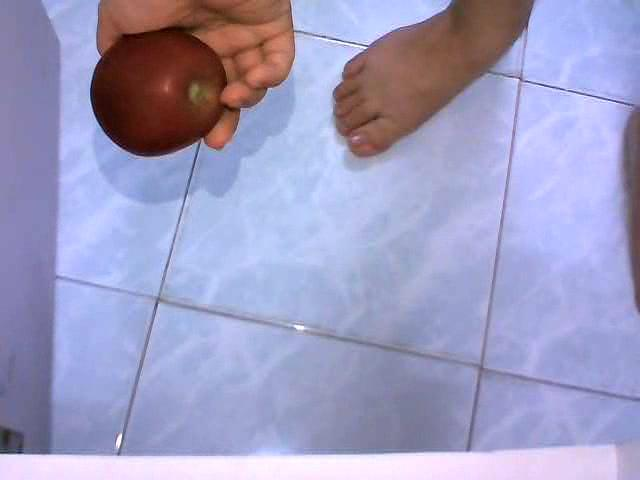apple: (89, 28, 228, 159)
